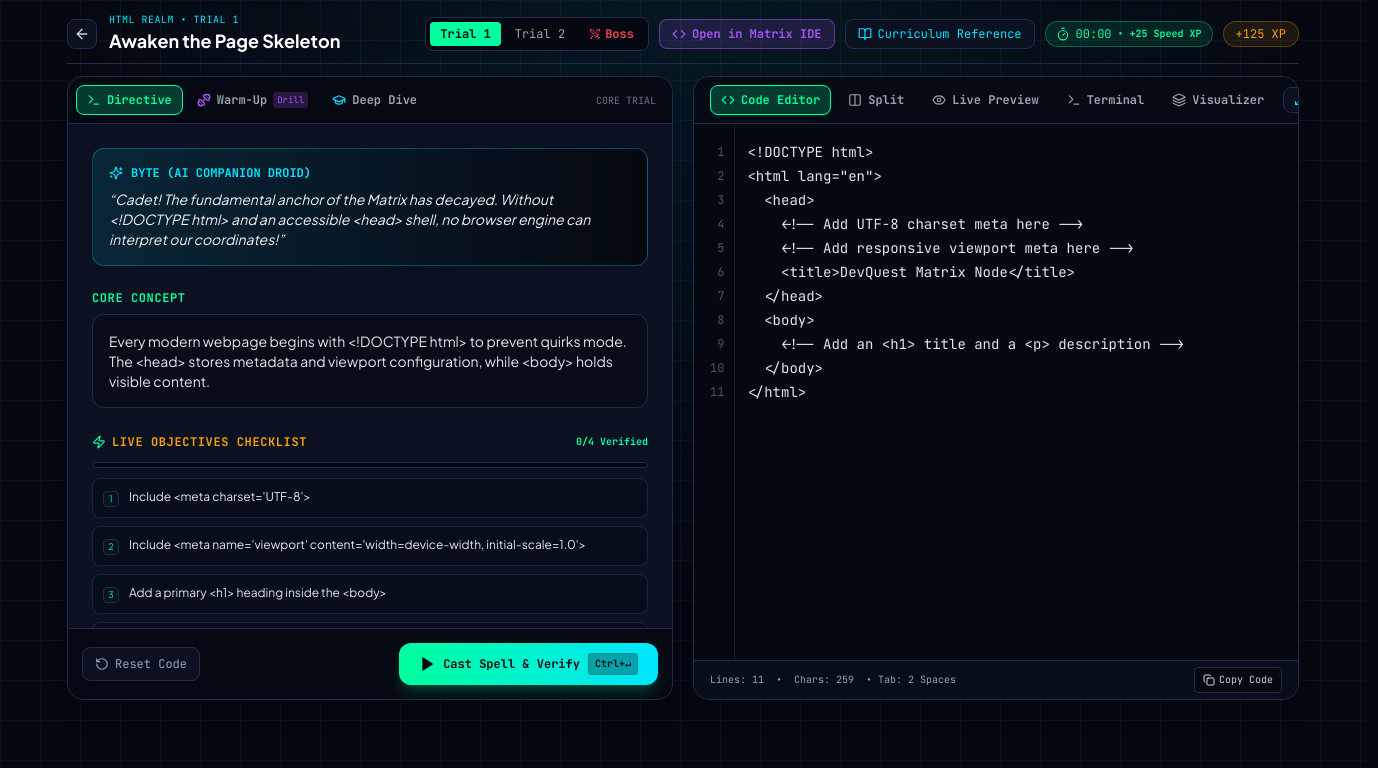
QuestCodingWorkspace Component › copies editor code to clipboard with audio and visual feedback
Click the button "Copy Code": (1238, 680) [1194, 667, 1282, 693]
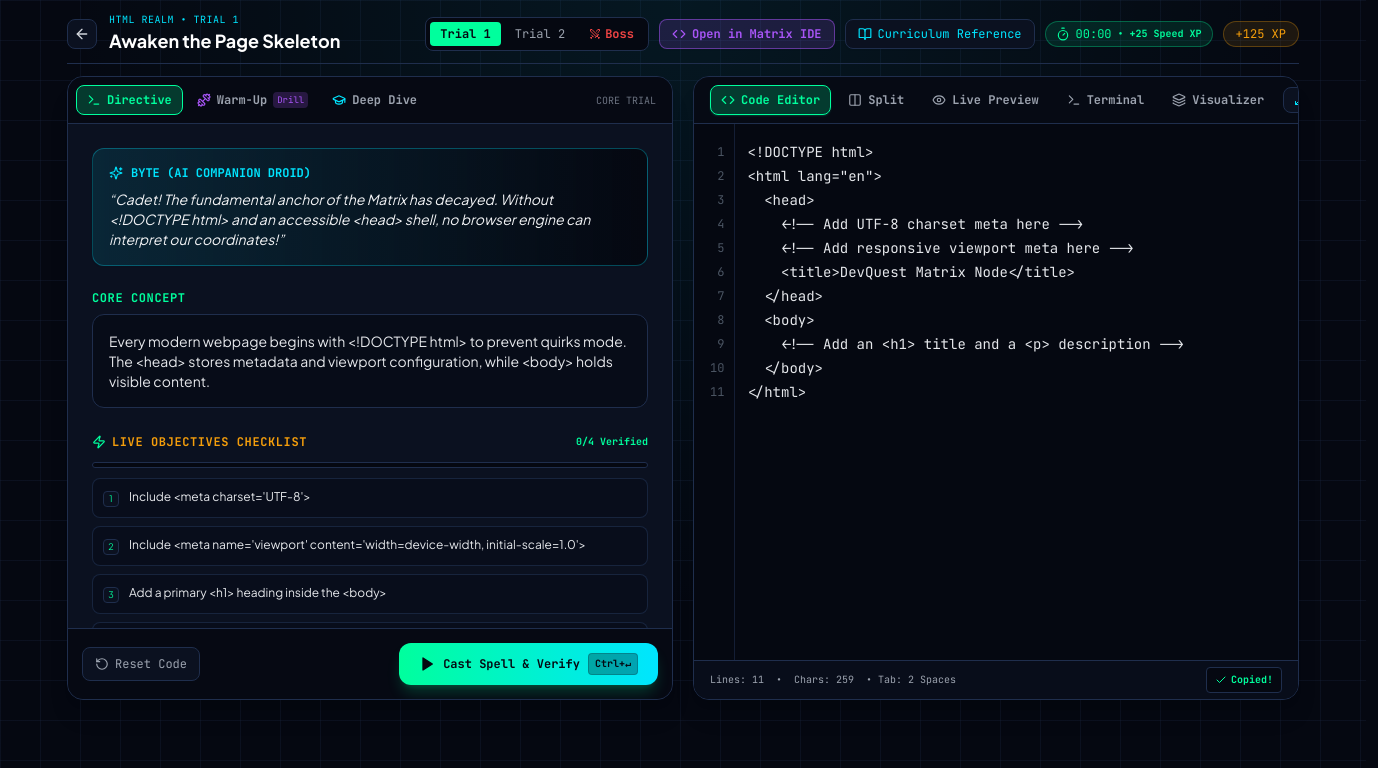
Now the text "Copied!" is shown, box [1231, 670, 1273, 690]
